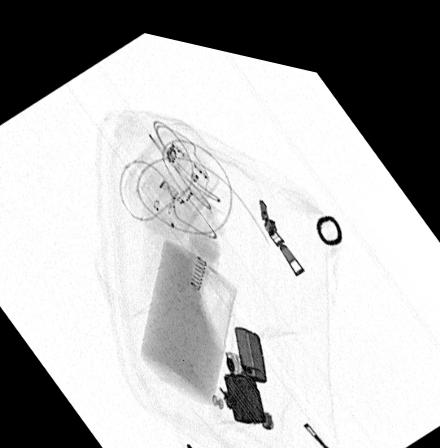Lighter: (222, 314, 267, 412)
